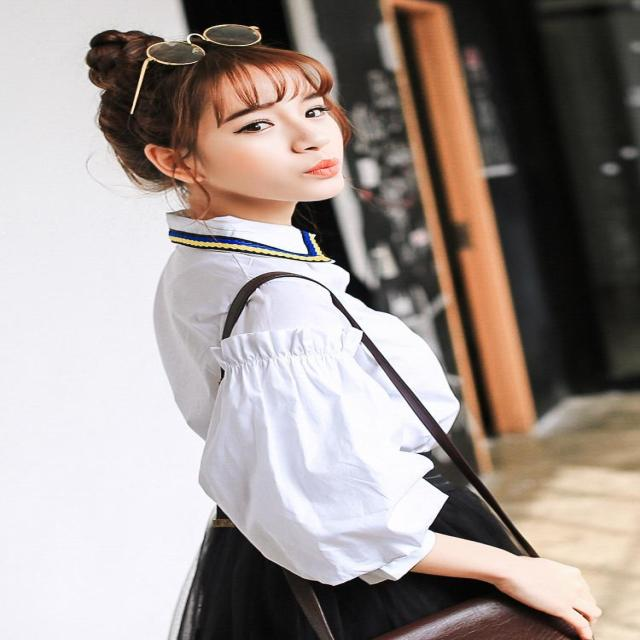long sleeve top: (154, 211, 460, 586)
